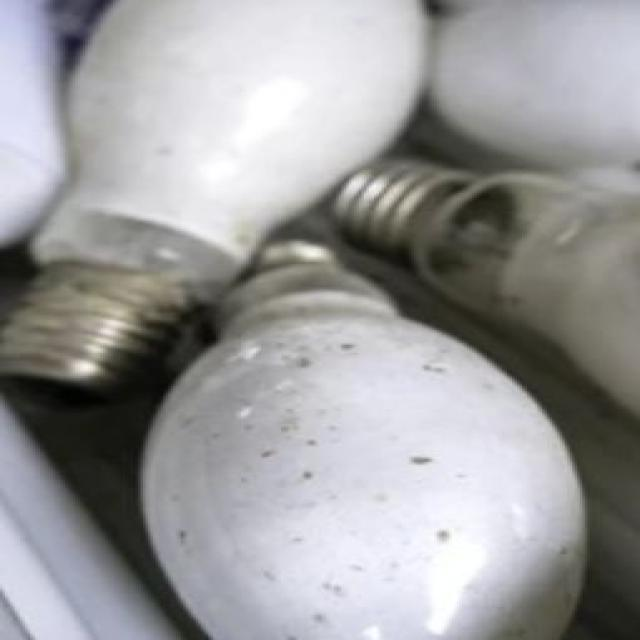electronic: (0, 0, 637, 638), (135, 256, 590, 638), (0, 0, 432, 401), (324, 152, 637, 432), (419, 0, 638, 175), (0, 0, 70, 254)
